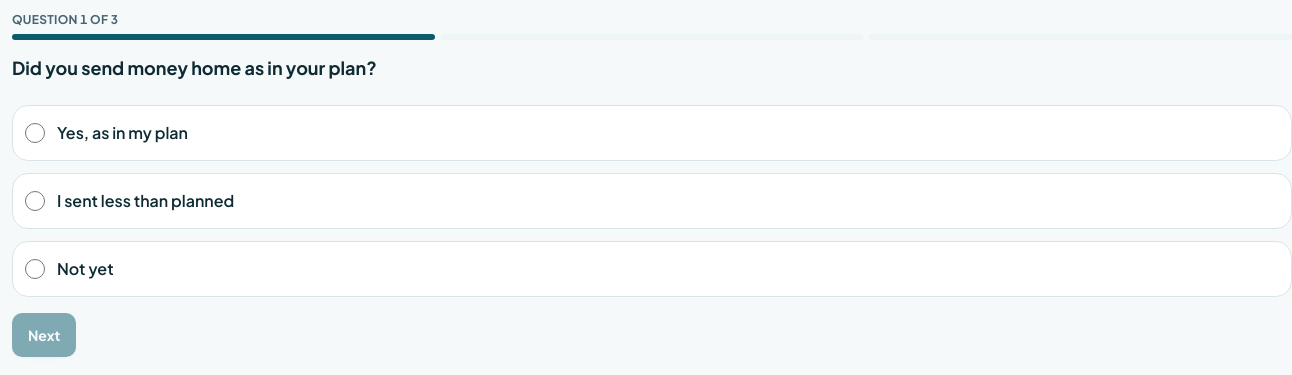
Test: the questions › are asked one at a time, in order, with the progress said and the choice required
The image size is (1292, 375).
Expected: the text "Question 1 of 3" is shown, [12, 12, 118, 27]
Expected: the button "Next" is disabled, [12, 313, 76, 357]
Step 1. Click the radio button labelled "Yes, as in my plan" → (35, 133), box [25, 123, 45, 143]
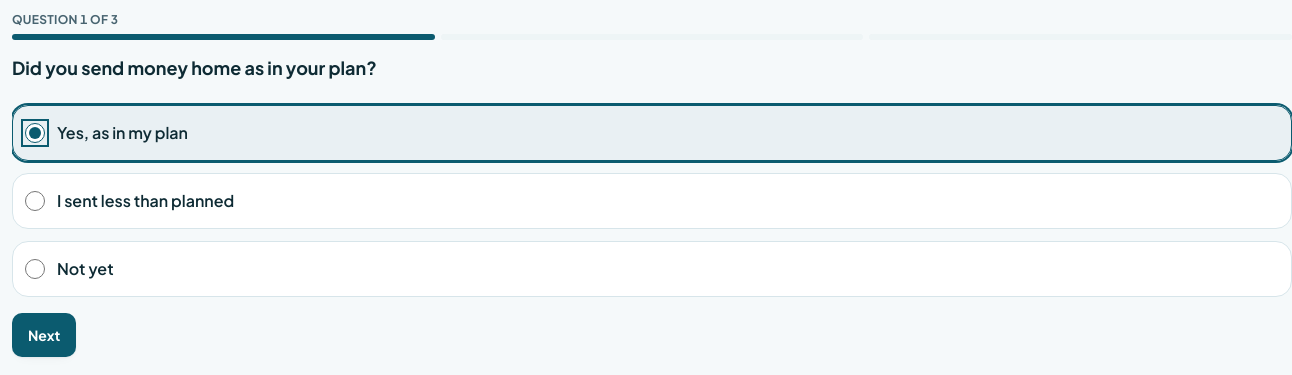
Step 2. Click the button "Next" → (44, 335), box [12, 313, 76, 357]
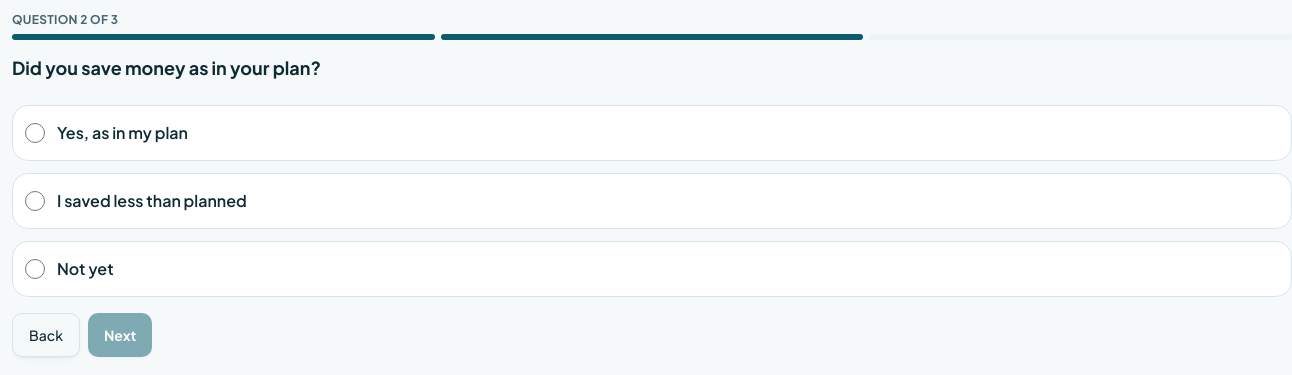
Expected: the text "Question 2 of 3" is shown, [12, 12, 118, 27]
Expected: the element "Did you save money as in your plan?" is shown
Expected: the button "Next" is disabled, [88, 313, 152, 357]
Step 3. Click the radio button labelled "Not yet" → (35, 269), box [25, 259, 45, 279]
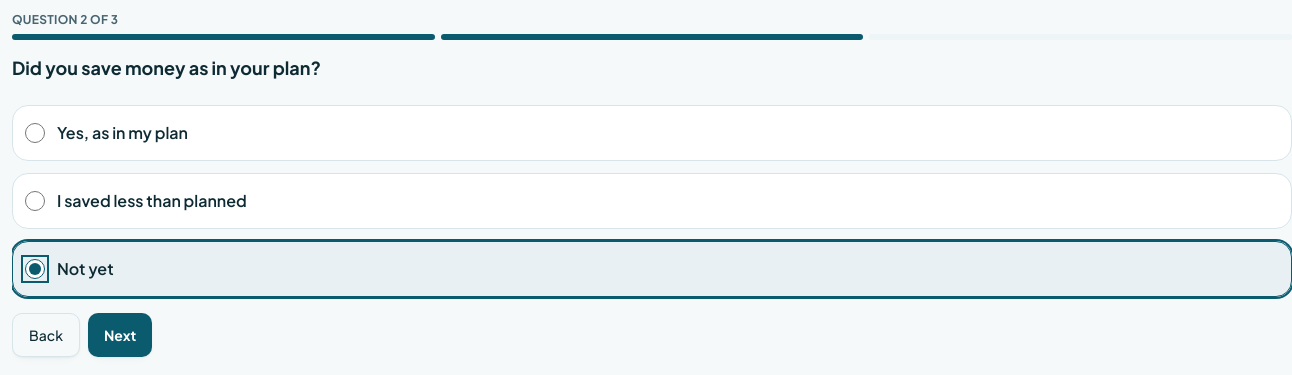
Step 4. Click the button "Next" → (120, 335), box [88, 313, 152, 357]
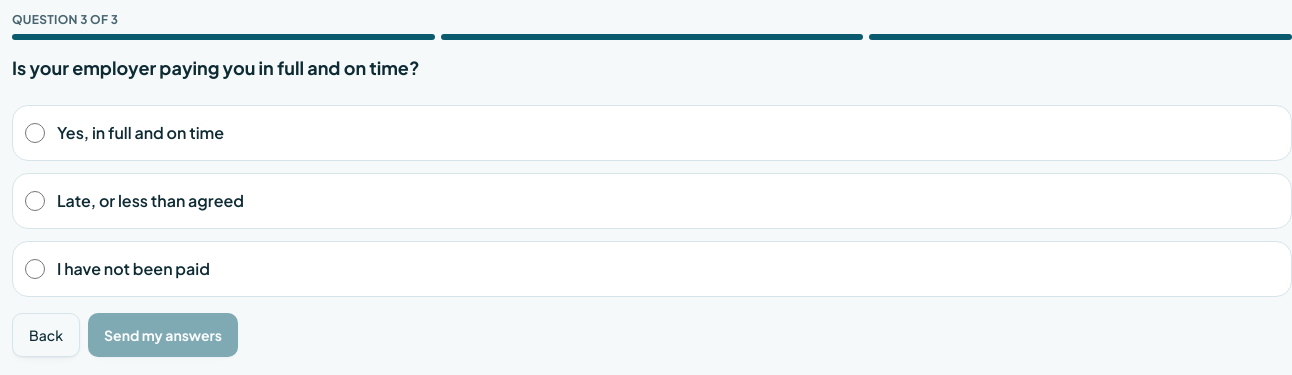
Expected: the text "Question 3 of 3" is shown, [12, 12, 118, 27]
Expected: the radio button labelled "I have not been paid" is shown, [25, 259, 45, 279]
Expected: the button "Send my answers" is shown, [88, 313, 238, 357]
